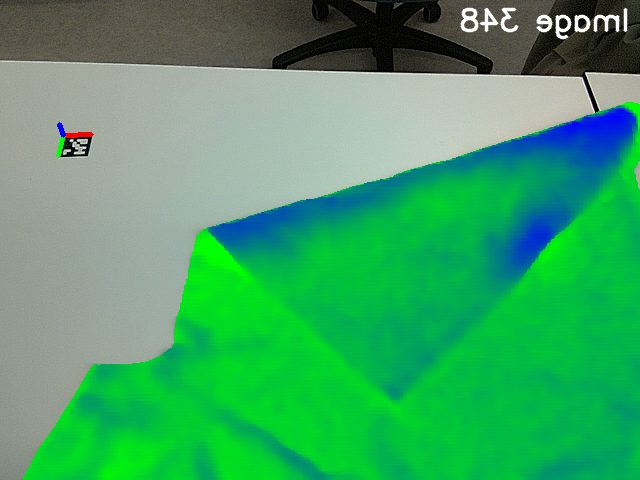V: (368, 351, 432, 413)
